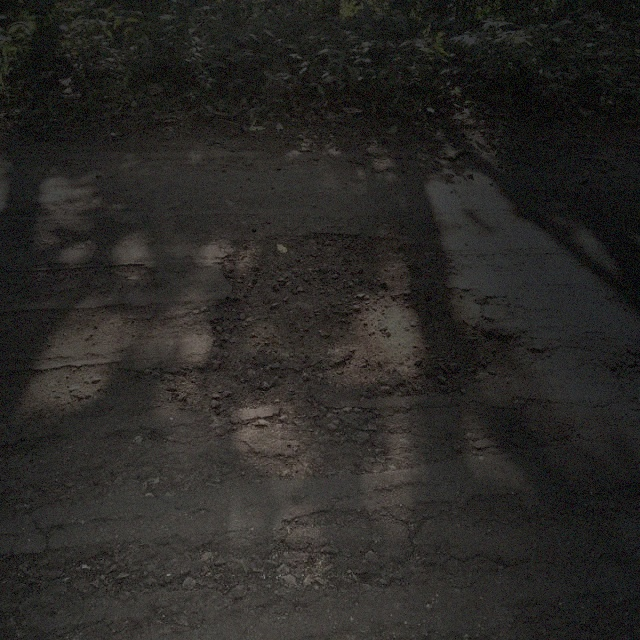pothole: (190, 228, 530, 427)
